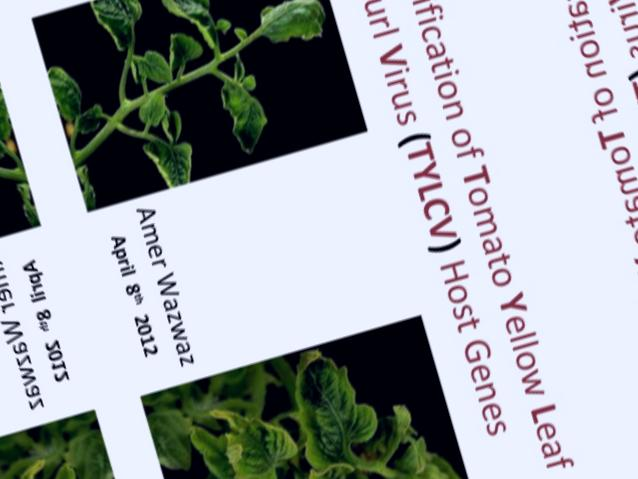Tomato leaf yellow virus: (280, 344, 385, 476), (201, 385, 307, 479), (213, 65, 282, 163), (243, 0, 338, 56), (155, 0, 227, 59)
